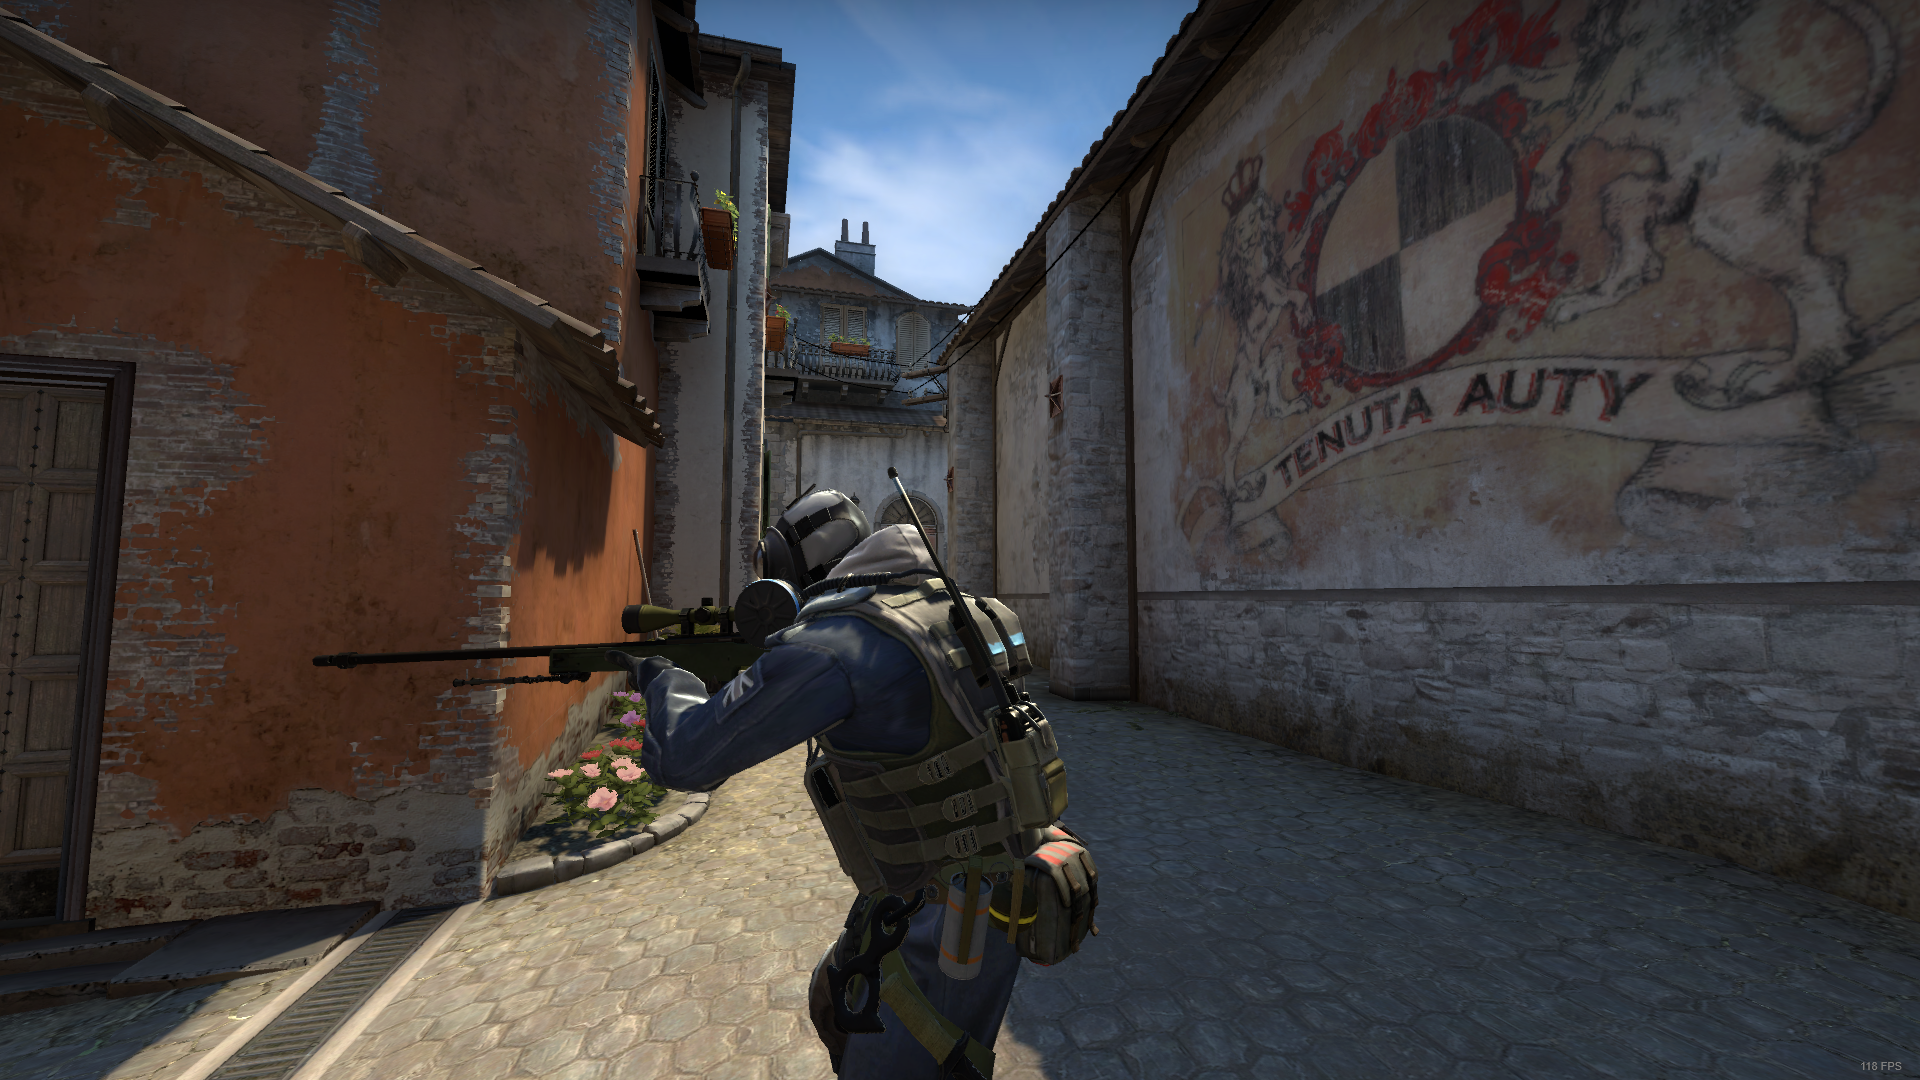ct: (618, 491, 1097, 1080)
